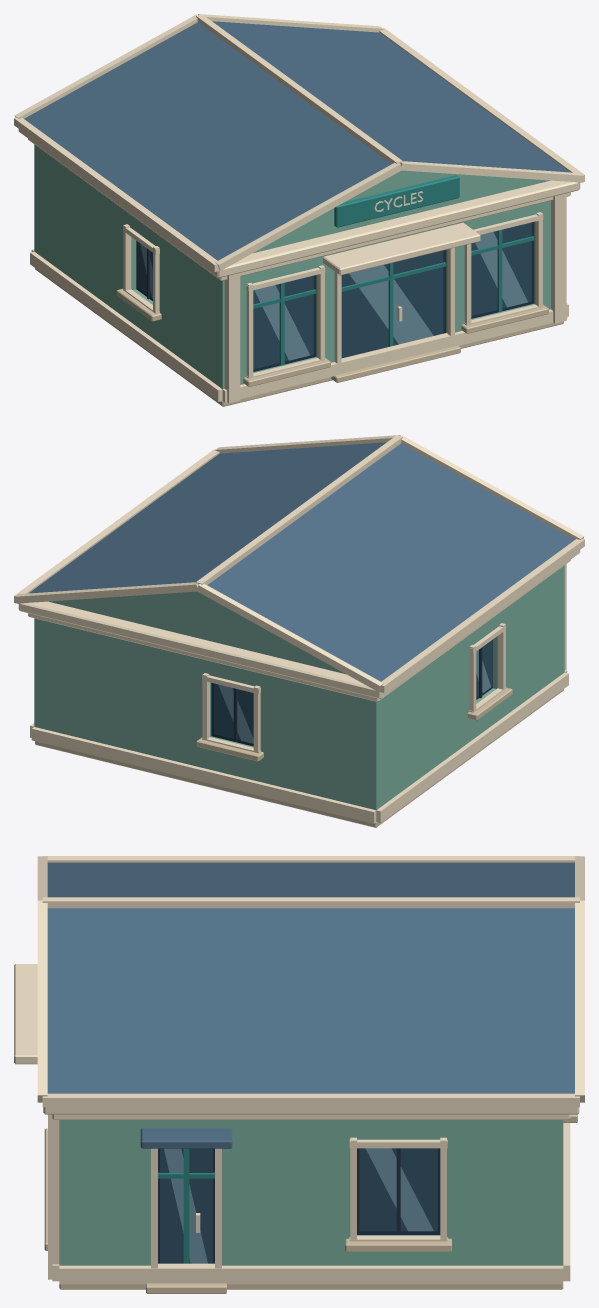
Rendered from cycle_shop.glb.
3 renders of one model, top to bottom at view 1: azimuth 30°, elevation 25°; view 2: azimuth 150°, elevation 25°; view 3: azimuth 270°, elevation 25°, orthographic. The views are drawn at different scales.
Visible parts, largest first — view 1: CycleShop_StaticMesh; view 2: CycleShop_StaticMesh; view 3: CycleShop_StaticMesh.
Part boxes in pixels (x1,y1,x2,y2): CycleShop_StaticMesh: (14, 14, 584, 406); CycleShop_StaticMesh: (14, 435, 584, 827); CycleShop_StaticMesh: (14, 856, 584, 1293).
Size of the model in its own units: 9.44 by 5.01 by 9.29.
